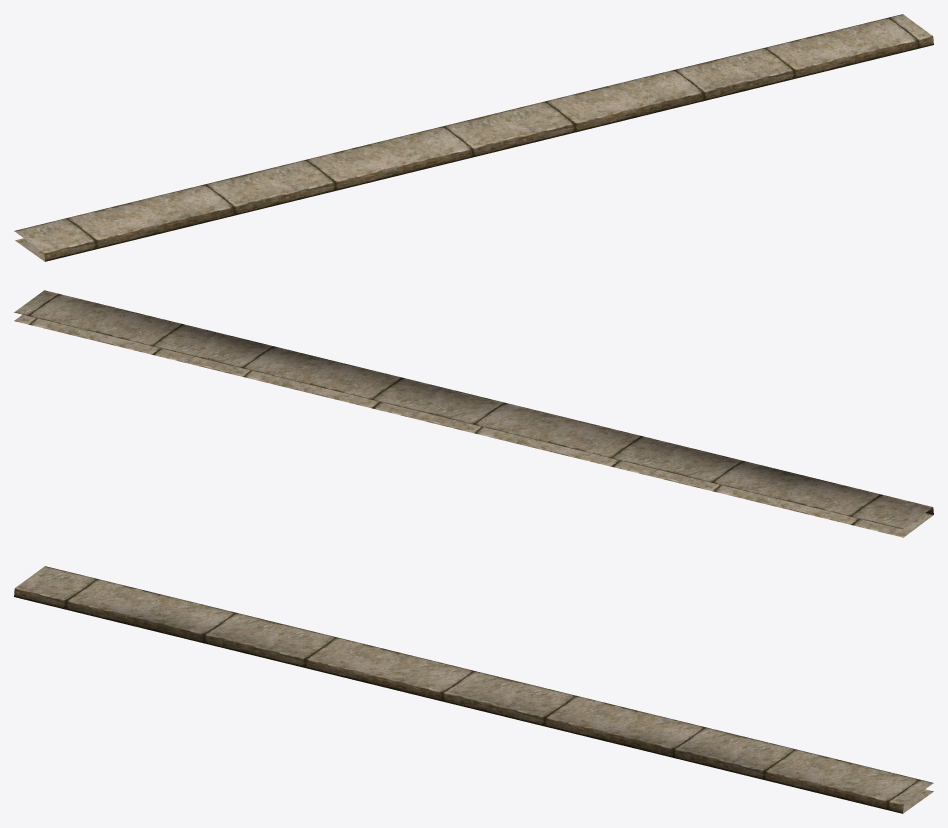
The model's file is EKH_THRONE_PS_TH_STEP_TRIM_02983.fbx.
3 views of the same model, one above another, from view 1: azimuth 30°, elevation 25°; view 2: azimuth 150°, elevation 25°; view 3: azimuth 330°, elevation 25° (orthographic).
Parts seen in each view (by area): view 1: EKH_THRONE_PS_TH_STEP_TRIM_02983; view 2: EKH_THRONE_PS_TH_STEP_TRIM_02983; view 3: EKH_THRONE_PS_TH_STEP_TRIM_02983.
Boxes of the visible parts, x1,y1,x2,y2 form: EKH_THRONE_PS_TH_STEP_TRIM_02983: [14, 14, 933, 261]; EKH_THRONE_PS_TH_STEP_TRIM_02983: [14, 290, 933, 537]; EKH_THRONE_PS_TH_STEP_TRIM_02983: [14, 566, 933, 813].
Bounding box in the file's own units: 216010 × 2068 × 13078.
1 material, 1 textured.
